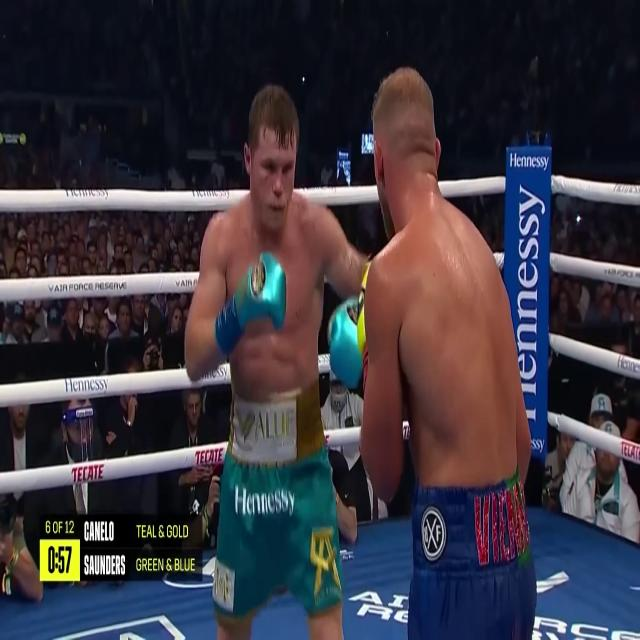boxer_1: (373, 69, 517, 487)
boxer_2: (215, 85, 324, 399)
gloves_1: (357, 265, 370, 352)
gloves_2: (215, 252, 287, 354), (329, 296, 363, 378)
